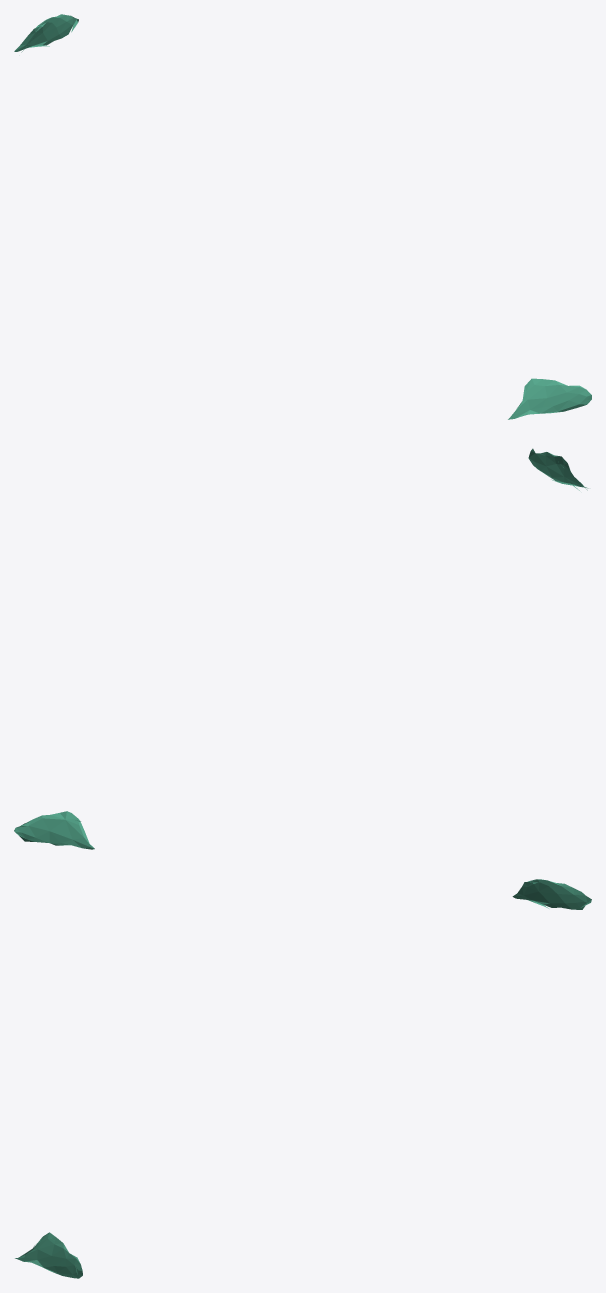
The picture shows the model from 3 angles, top to bottom: view 1: azimuth 30°, elevation 25°; view 2: azimuth 150°, elevation 25°; view 3: azimuth 330°, elevation 25°; orthographic projection.
Visible parts, largest first — view 1: 355.obj; view 2: 355.obj; view 3: 355.obj.
Boxes of the visible parts, x1,y1,x2,y2 form: 355.obj: [14, 14, 591, 419]; 355.obj: [14, 448, 588, 849]; 355.obj: [15, 879, 591, 1278].
Size of the model in its own units: 671 by 290 by 7900.
